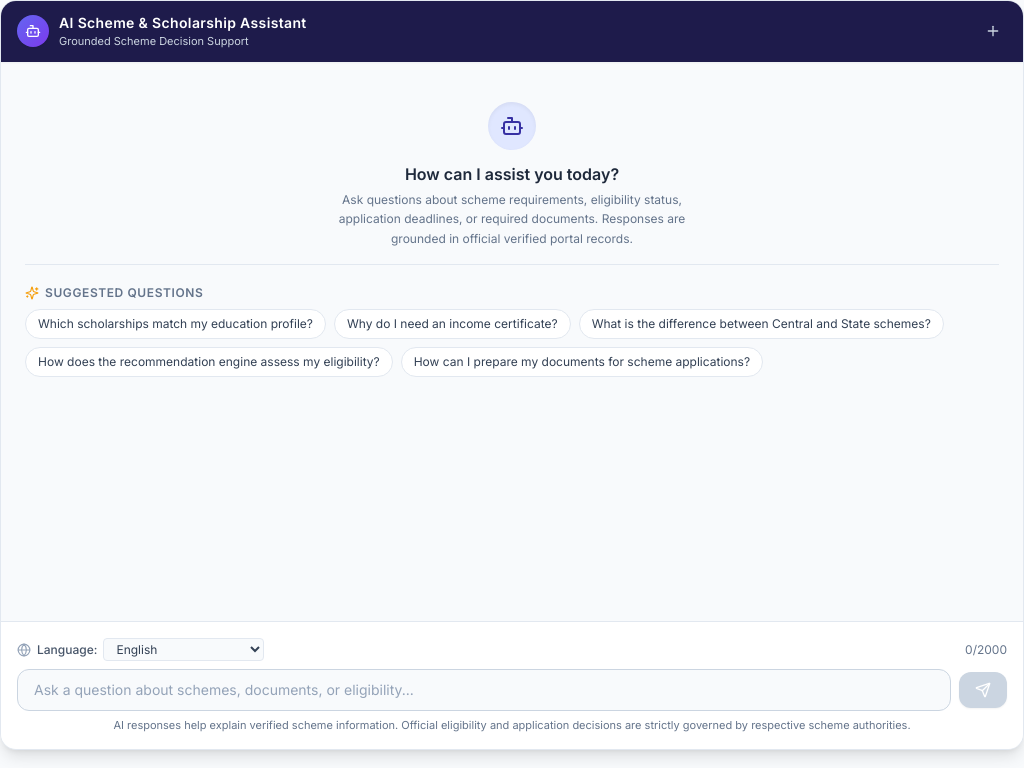
it: AssistantPanel Component (Module 8) › sends message on suggested question click and renders grounded response with sources and actions
Click the button "Which scholarships match my education profile?": {"x": 175, "y": 324} [25,309,326,339]
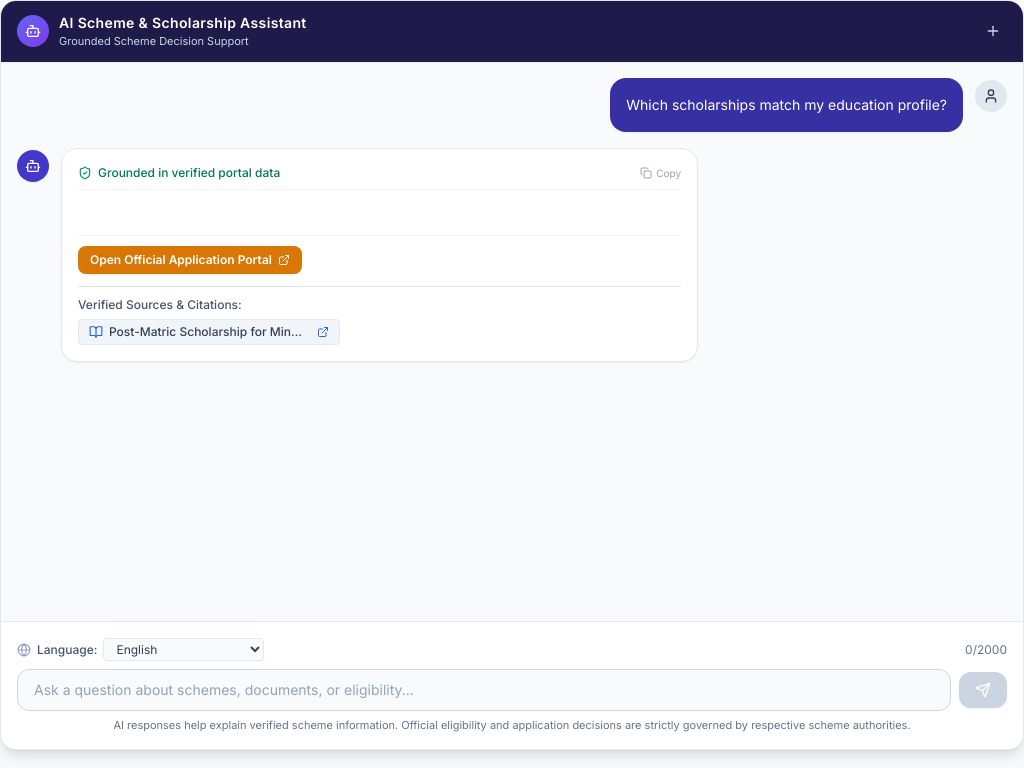
Now the text "Grounded in verified portal data" is shown, box [98,165,280,181]
Now the text "Post-Matric Scholarship for Minorities" is shown, box [109,324,309,340]
Now the button "Open Official Application Portal" is shown, box [78,246,302,274]
